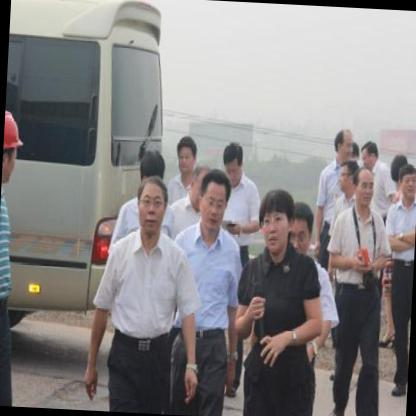head: (258, 182, 296, 257), (196, 168, 235, 233), (134, 172, 171, 237), (286, 204, 314, 260), (134, 147, 166, 191), (174, 131, 201, 179), (220, 137, 247, 184), (336, 150, 360, 197), (187, 162, 209, 206), (354, 166, 375, 212), (395, 162, 416, 206), (332, 126, 354, 166), (358, 136, 380, 172), (389, 152, 406, 188)
helmet: (1, 108, 22, 185)
